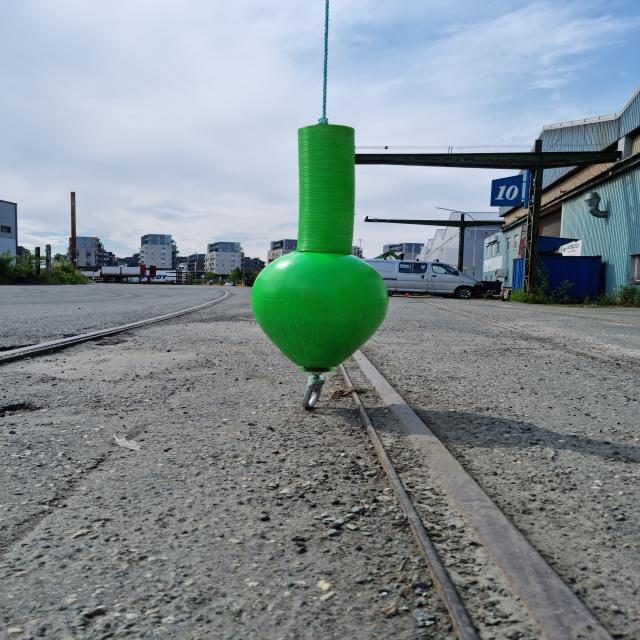green: (250, 124, 390, 370)
